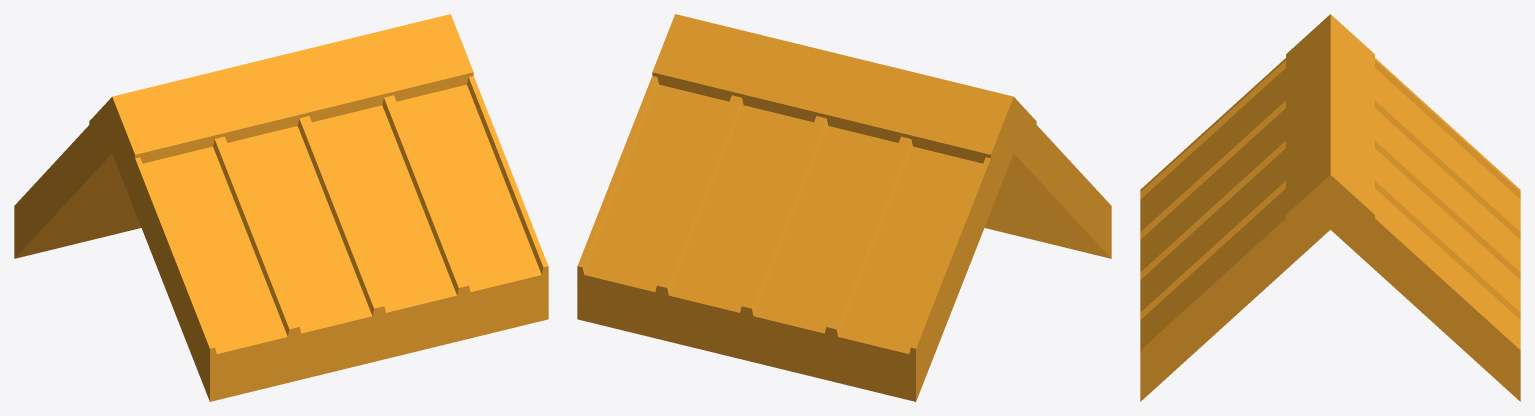
File: SM_Roof_Metal_Regular_2x1m_Center.fbx
The picture shows the model from 3 angles, left to right: view 1: azimuth 30°, elevation 25°; view 2: azimuth 150°, elevation 25°; view 3: azimuth 270°, elevation 25°; orthographic projection. The views are drawn at different scales.
Parts seen in each view (by area): view 1: roof-metal-regular-2x1m-center; view 2: roof-metal-regular-2x1m-center; view 3: roof-metal-regular-2x1m-center.
Part boxes in pixels (x1,y1,x2,y2): roof-metal-regular-2x1m-center: [14, 14, 548, 401]; roof-metal-regular-2x1m-center: [577, 14, 1111, 401]; roof-metal-regular-2x1m-center: [1140, 14, 1520, 401].
Bounding box in the file's own units: 2 × 1.32 × 2.
